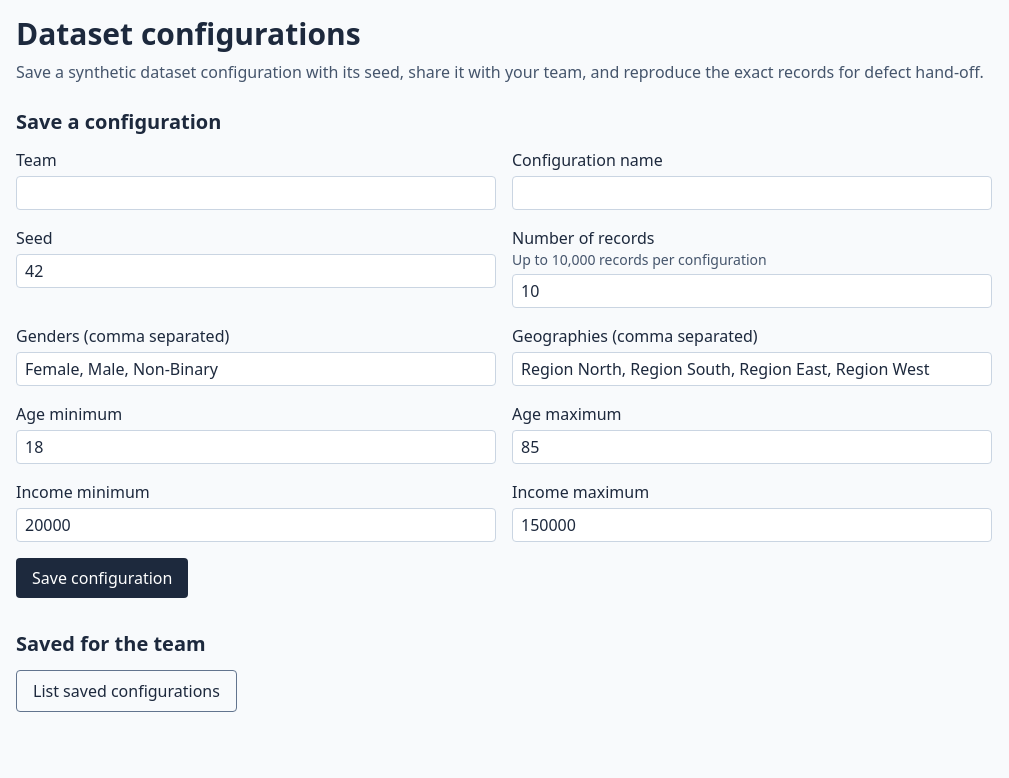
Test: DatasetConfigurationsPage › reproduces a saved configuration and shows the exact records
Type "atlas" into the field labelled "Team" at (256,193), box [16,176,496,210]
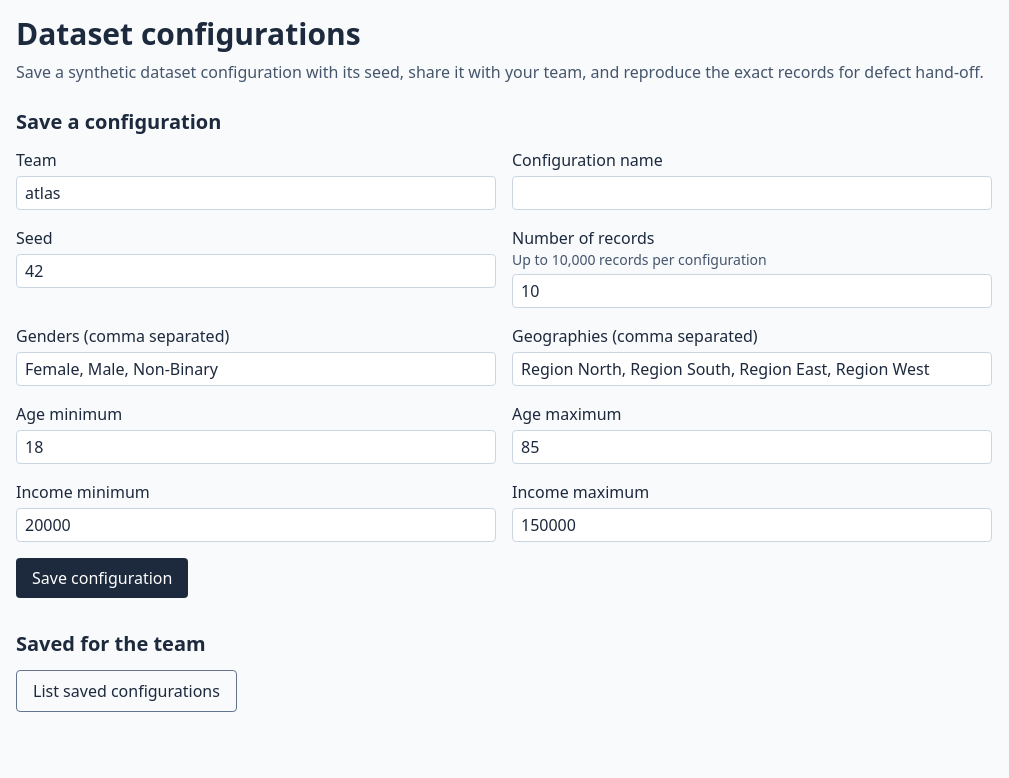
Click the button "List saved configurations" at (126,691), box [16,670,237,712]
(page scrolled)
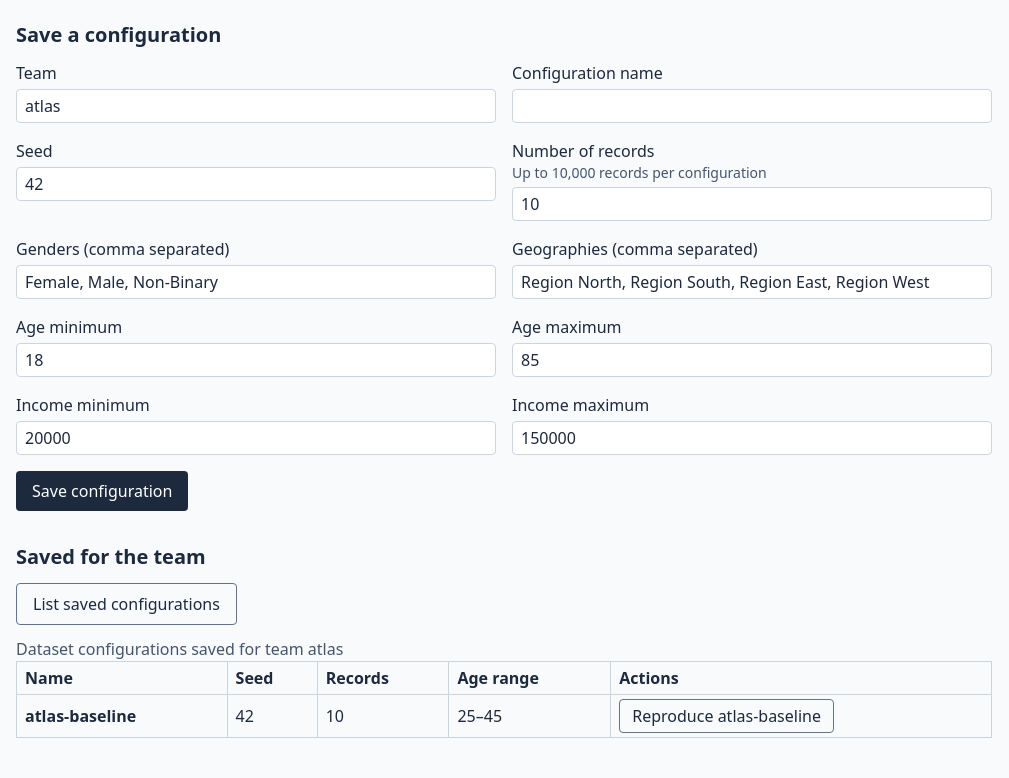
Click the button "Reproduce atlas-baseline" at (727,716), box [619,699,834,733]
(page scrolled)
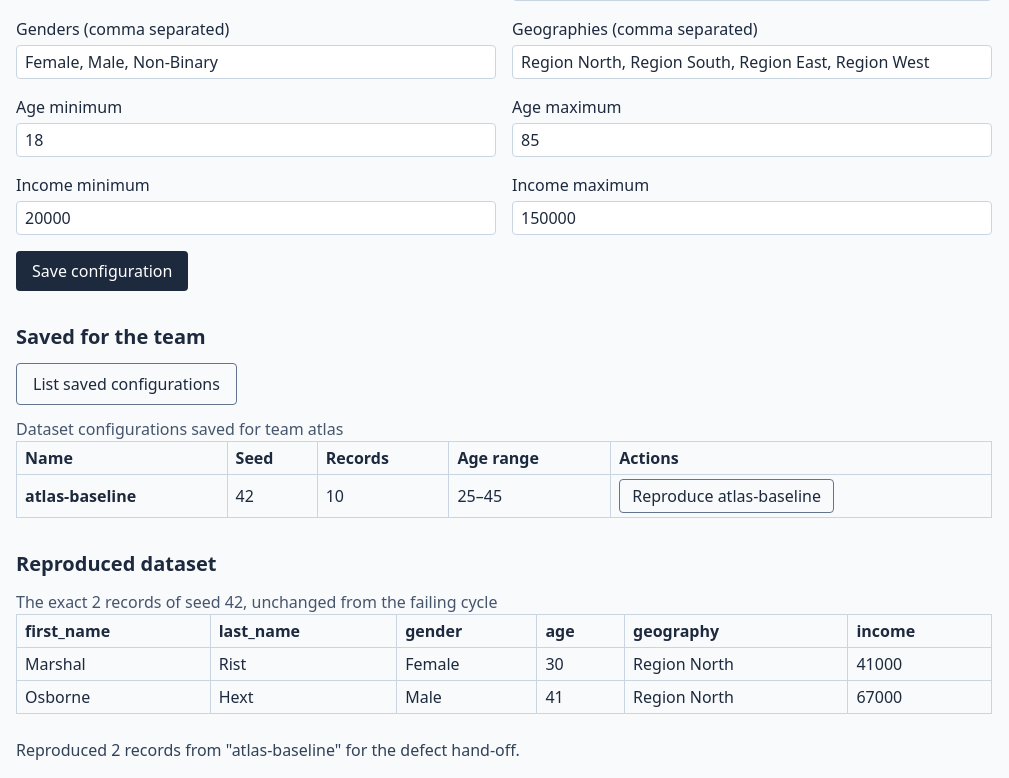
Expected: the table "The exact 2 records of seed 42" is shown, [16,590,992,714]
Expected: the text "Marshal" is shown, [16,648,210,680]
Expected: the text "Hext" is shown, [210,680,397,714]
